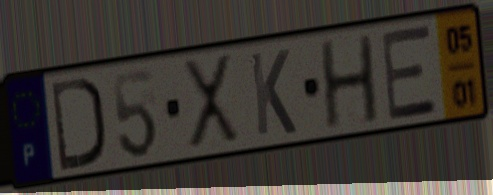5: (109, 64, 161, 162)
D: (48, 74, 108, 175)
E: (378, 21, 441, 124)
H: (317, 30, 383, 133)
K: (246, 46, 299, 139)
X: (180, 50, 243, 151)
